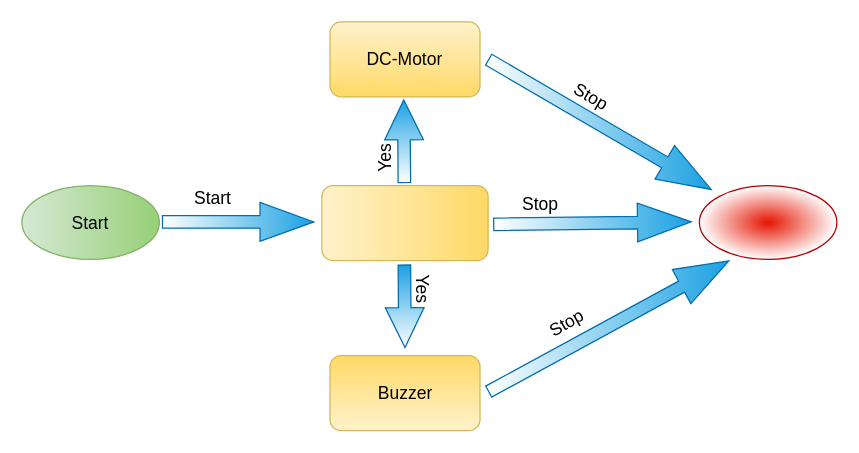
This 859x453 diagram has some shape labels left out. The shapes that lost their labels are listed below. From the top down, each one's centre as x and y in pixels, then its label:
the point at 404,222: UltraSonic Sensor HC-SR04
the point at 767,221: End
